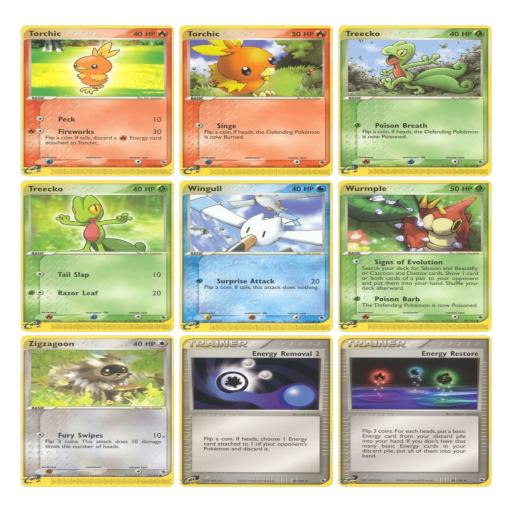card: (20, 179, 175, 333), (338, 335, 491, 487), (21, 25, 175, 176), (179, 24, 331, 176), (339, 180, 491, 332), (180, 334, 332, 486), (339, 25, 492, 176), (181, 180, 331, 333), (21, 336, 173, 486)
